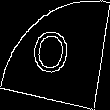O_S: (32, 25, 78, 85)
